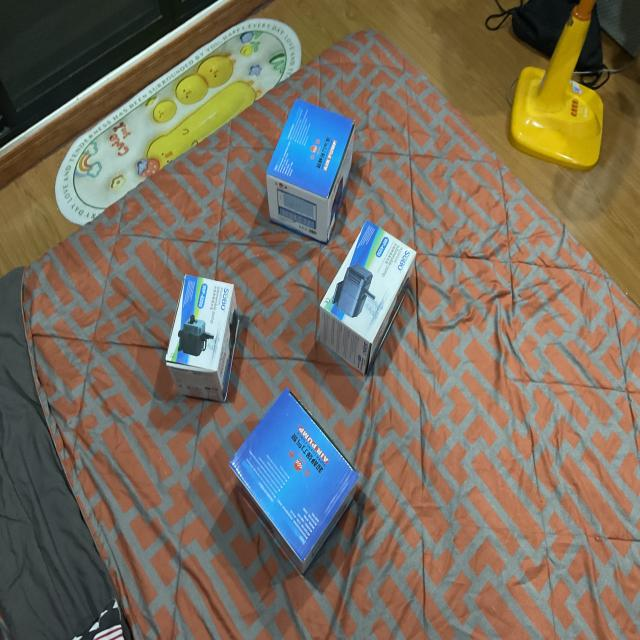SOBO_WP_4200: (313, 222, 426, 392), (162, 273, 244, 411)
YAMANO_LPP_20: (221, 384, 373, 596), (260, 87, 364, 250)
